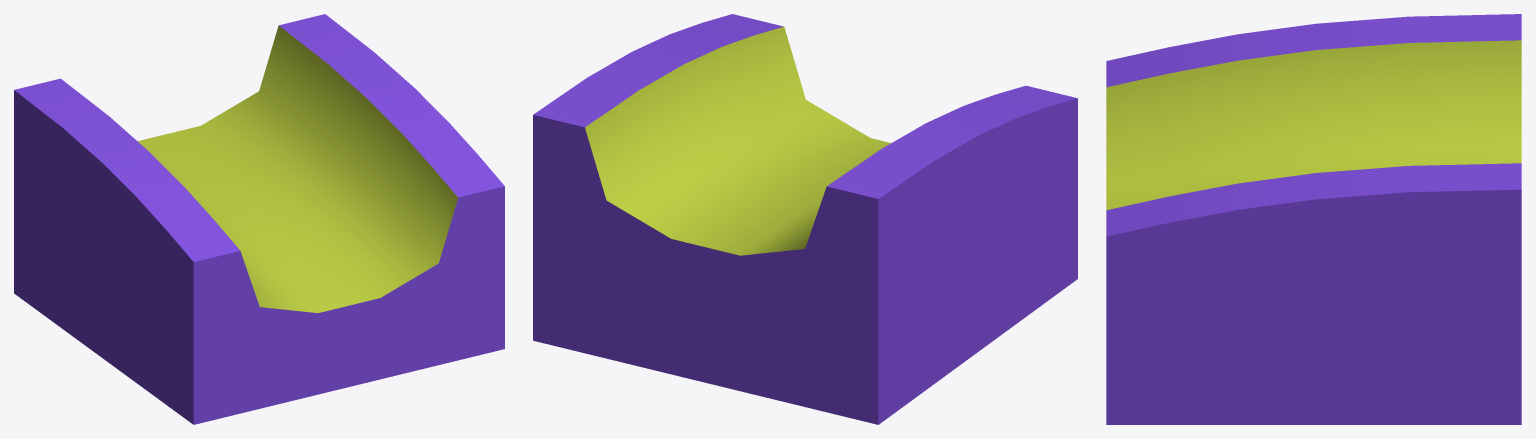
File: rampEnd_solid_A-col.dae
3 renders of one model, left to right at view 1: azimuth 30°, elevation 25°; view 2: azimuth 150°, elevation 25°; view 3: azimuth 270°, elevation 25°, orthographic. The views are drawn at different scales.
Visible parts, largest first — view 1: rampEnd_solid_A-col; view 2: rampEnd_solid_A-col; view 3: rampEnd_solid_A-col.
Boxes of the visible parts, x1,y1,x2,y2 form: rampEnd_solid_A-col: (14,14,504,424); rampEnd_solid_A-col: (533,14,1077,424); rampEnd_solid_A-col: (1106,14,1521,424).
Bounding box in the file's own units: 1 × 1 × 0.625.
